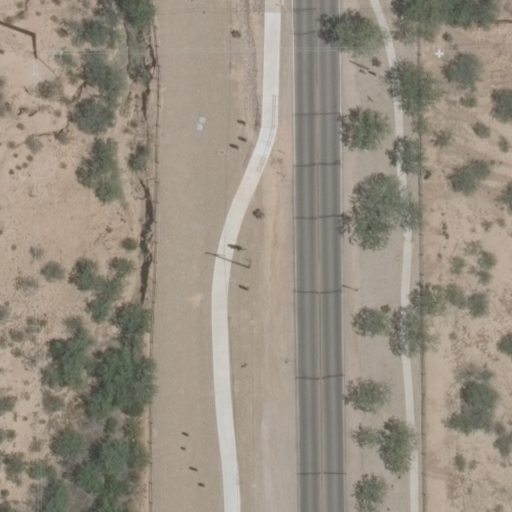DT: (23, 25, 51, 74)
